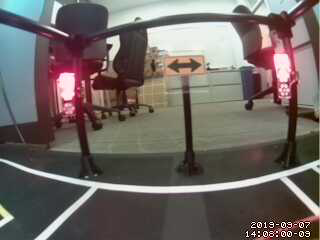Left_Right_sign: (54, 67, 76, 128), (274, 49, 290, 103)
